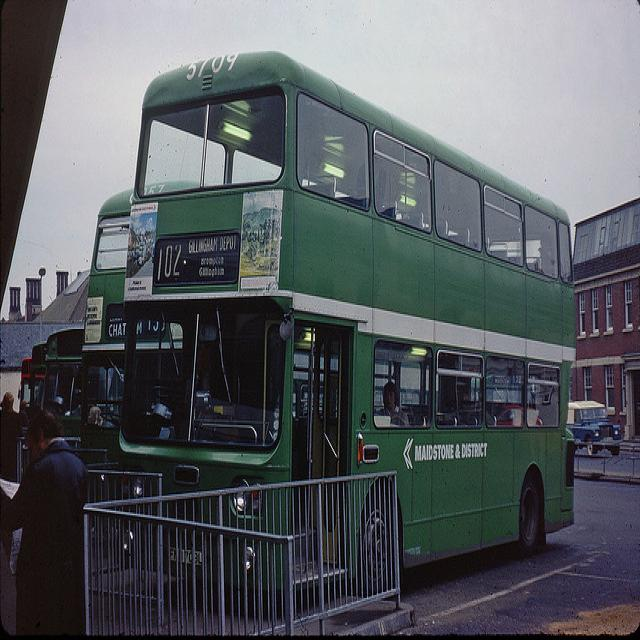Vehicle: (120, 55, 576, 565), (79, 188, 133, 457), (38, 328, 86, 442), (567, 398, 621, 458), (28, 338, 46, 406)
